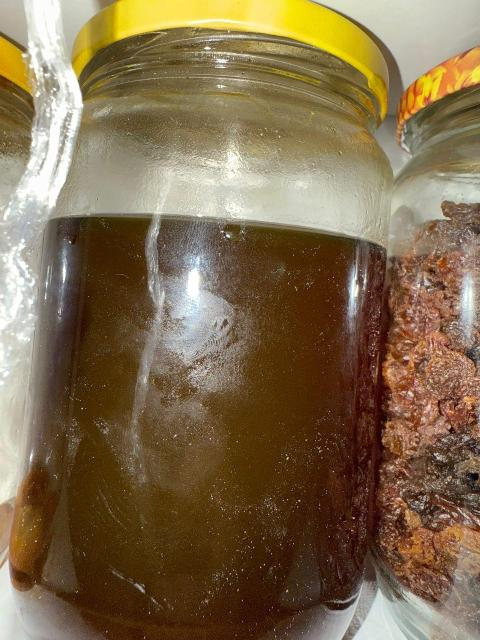Cam: (19, 123, 392, 619), (385, 157, 480, 606), (0, 105, 44, 543)
Metal: (69, 5, 451, 65), (392, 65, 480, 119), (0, 37, 42, 90)
